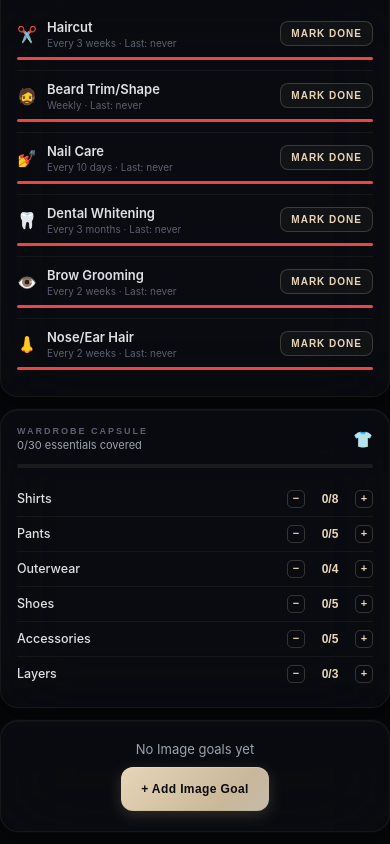
Test: ImageView › incrementing a wardrobe category persists via setProtocolState(skincare, wardrobe)
The image size is (390, 844).
(page scrolled)
What coordinates should you click on to do the following:
click the button named "Increase Shirts"
I would click on:
 (364, 499)
Its box is [355,490,373,508].
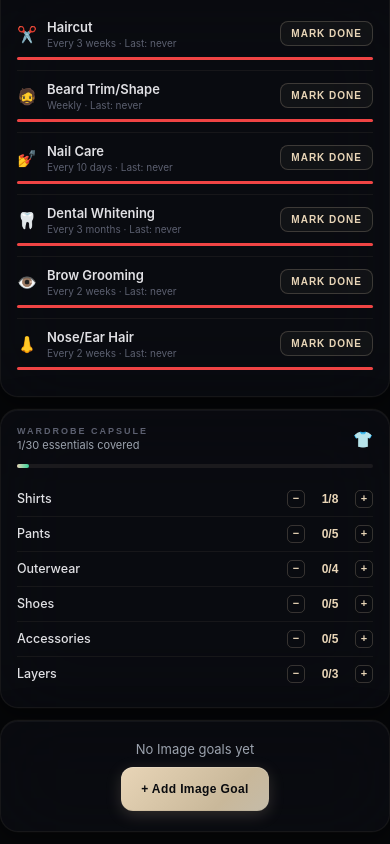
Now the text "1/8" is shown, box [322,492,338,506]
